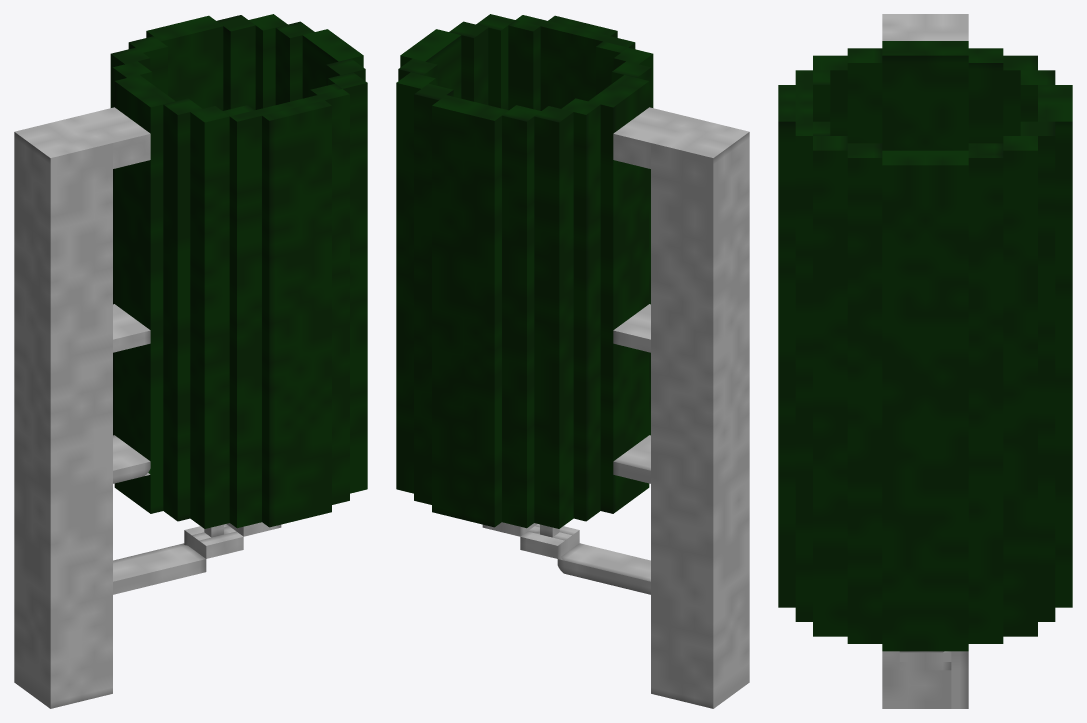
File: kosz_na_smieci_metal.dae
3 renders of one model, left to right at view 1: azimuth 30°, elevation 25°; view 2: azimuth 150°, elevation 25°; view 3: azimuth 270°, elevation 25°, orthographic. The views are drawn at different scales.
Visible parts, largest first — view 1: Content; view 2: Content; view 3: Content.
Part boxes in pixels (box(x1,y1,x2,y2)): Content: box(14, 14, 367, 708); Content: box(396, 14, 749, 708); Content: box(778, 14, 1072, 708).
Size of the model in its own units: 25 by 44 by 17.
1 material, 1 textured.
